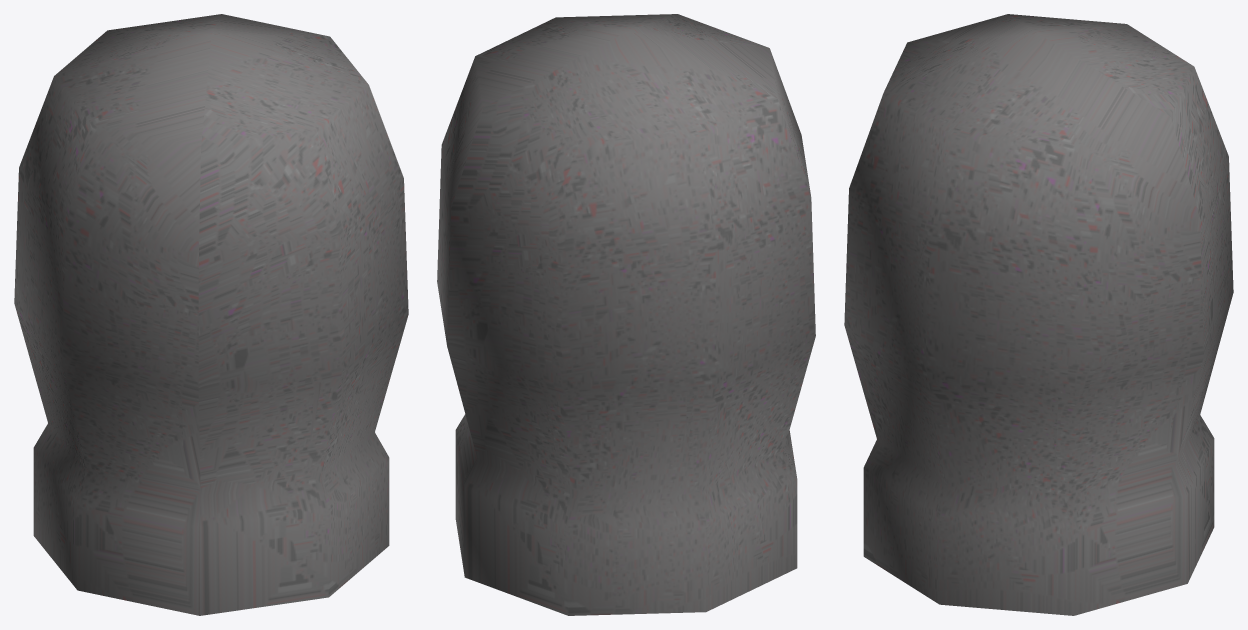
File: Web_cocon.fbx
3 renders of one model, left to right at view 1: azimuth 30°, elevation 25°; view 2: azimuth 150°, elevation 25°; view 3: azimuth 270°, elevation 25°, orthographic.
Visible parts, largest first — view 1: Web_cocon; view 2: Web_cocon; view 3: Web_cocon.
Boxes of the visible parts, <box> form: Web_cocon: <box>14,14,408,615</box>; Web_cocon: <box>437,14,815,615</box>; Web_cocon: <box>844,14,1233,615</box>.
Bounding box in the file's own units: 29.14 × 41.94 × 29.14.
